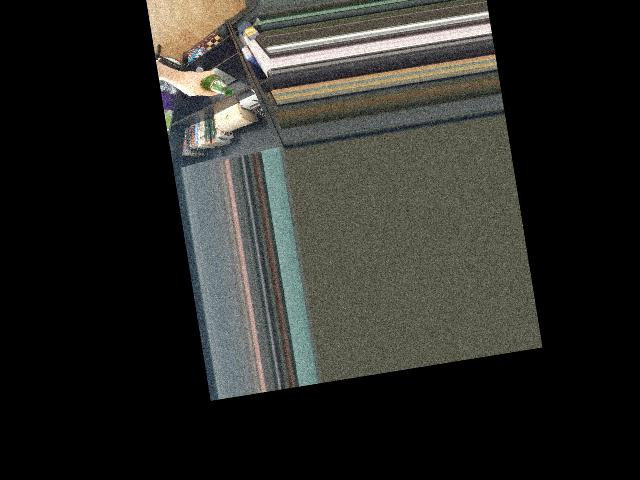beer: (195, 66, 233, 100)
